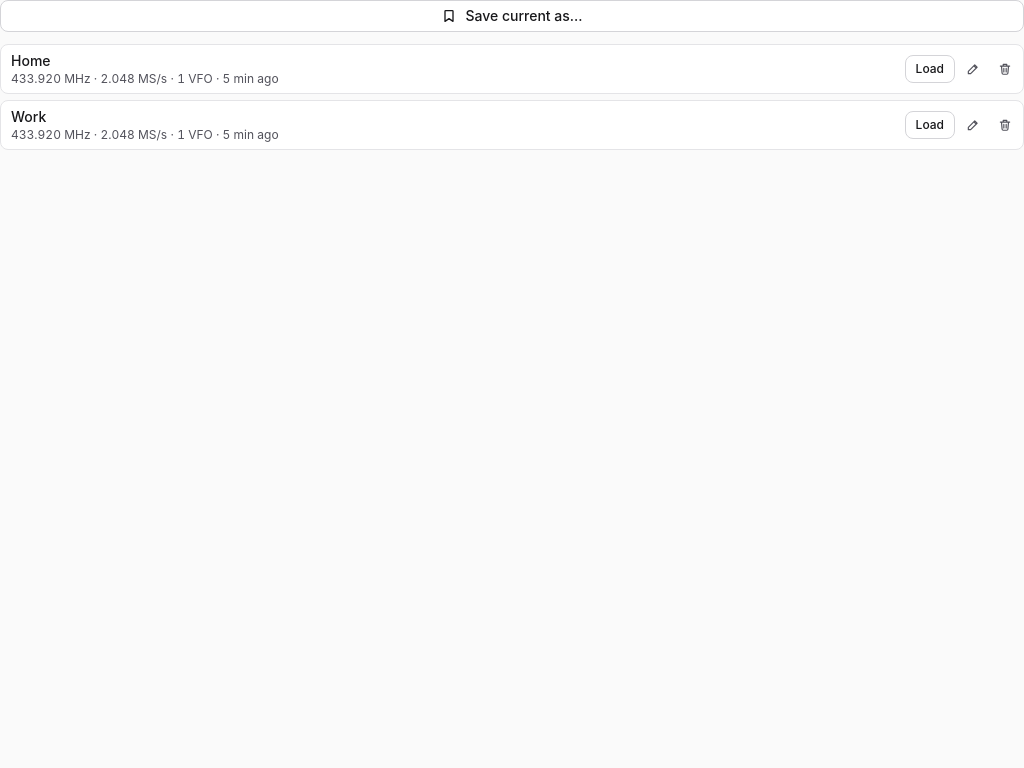
Test: ProfilesPanel › renames a profile and reports a name clash inline
This screenshot has width=1024, height=768.
Expected: the text "Home" is shown, [11,51,50,71]
Click the button named "Rename profile Home": (973, 69) [959,55,987,83]
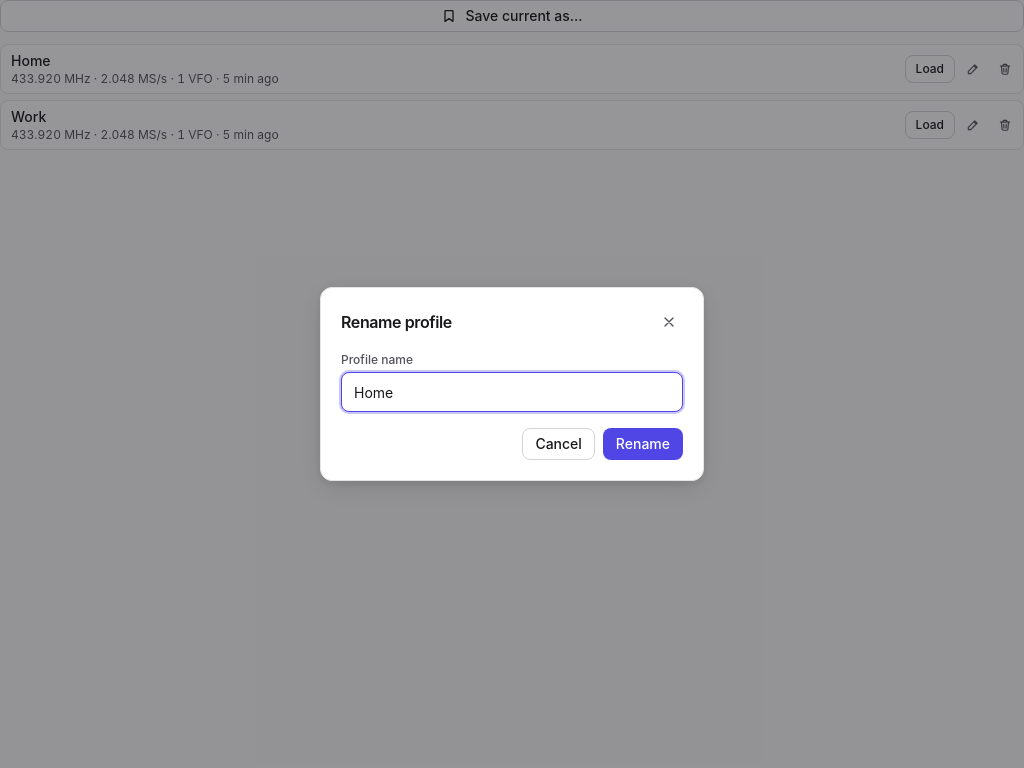
Now the field labelled "Profile name" holds "Home"
Replace the text in the field labelled "Profile name" with "work": (512, 392) [342,373,682,411]
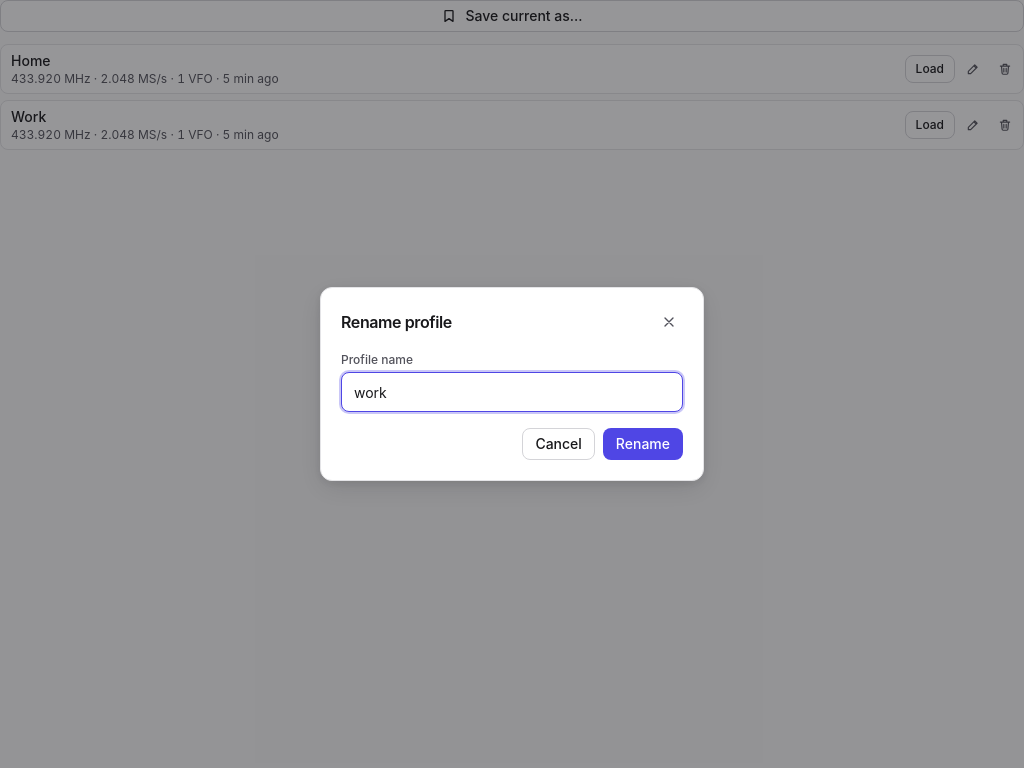
Click the button "Rename": (643, 444) [603,428,683,460]
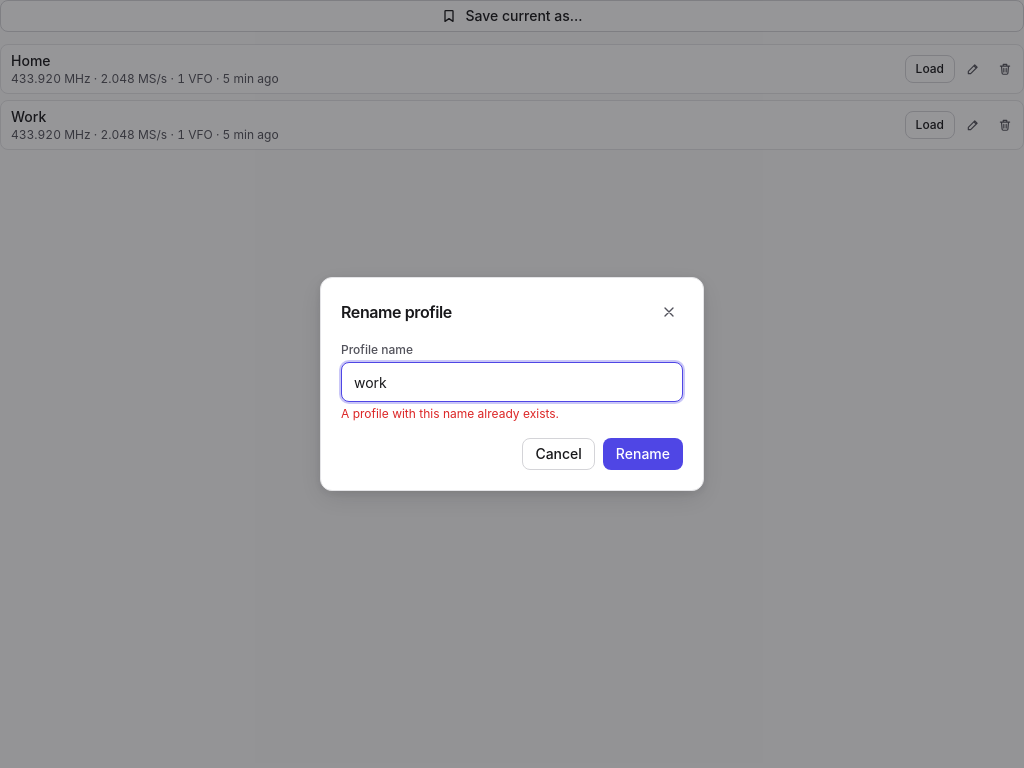
Now the text "A profile with this name already exists." is shown, box [341,406,559,421]
Replace the text in the field labelled "Profile name" with "Cabin": (512, 382) [342,363,682,401]
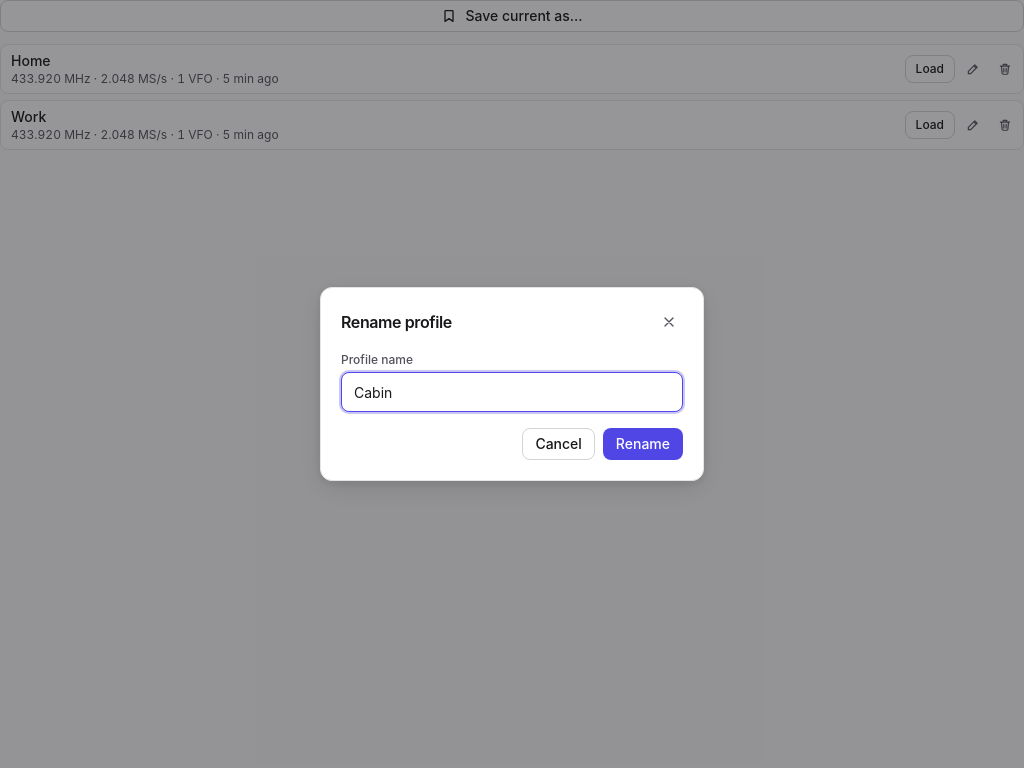
Click the button "Rename": (643, 444) [603,428,683,460]
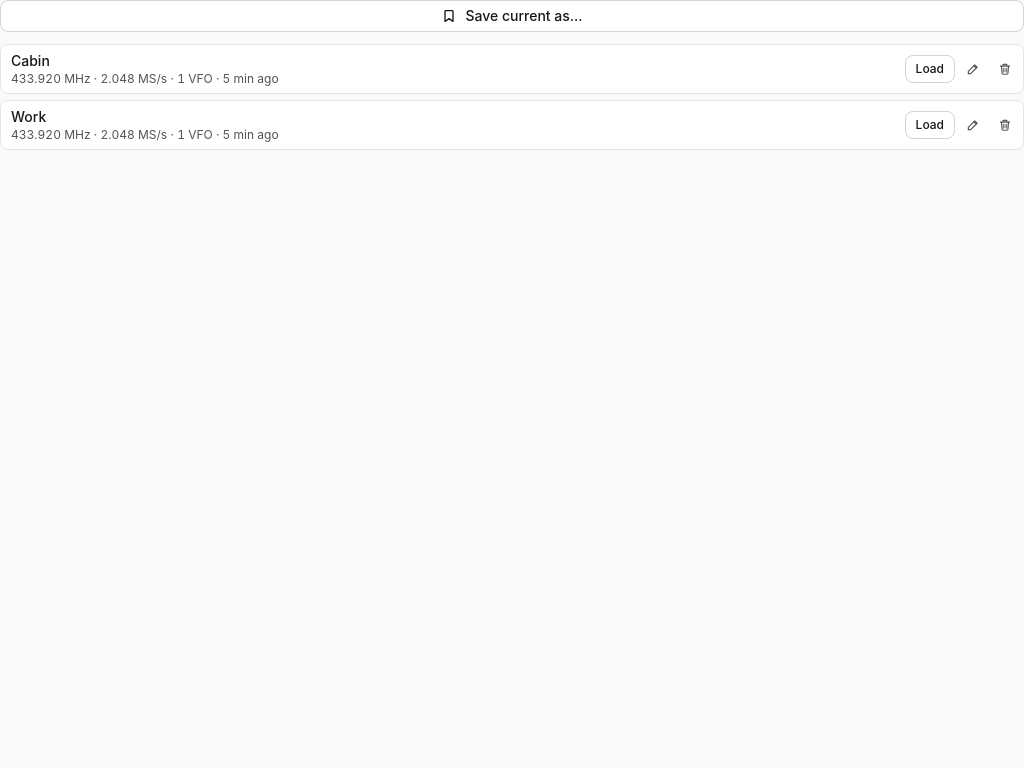
Now the dialog is gone
Now the text "Cabin" is shown, box [11,51,50,71]
